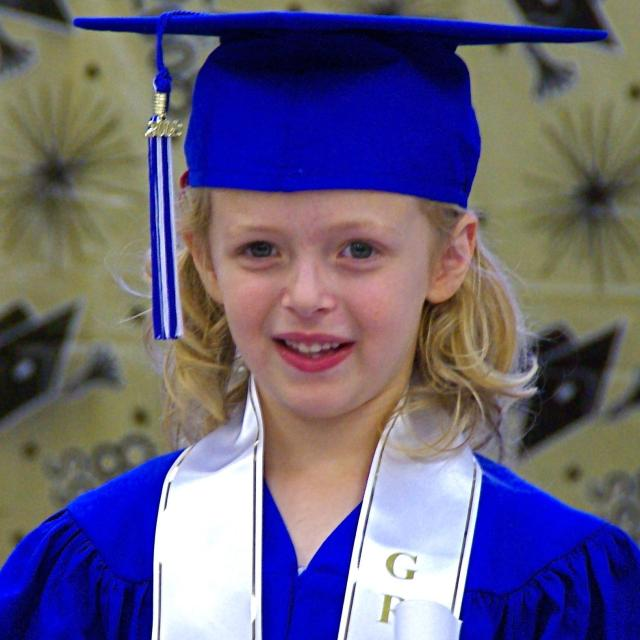no-glass: (230, 238, 384, 267)
